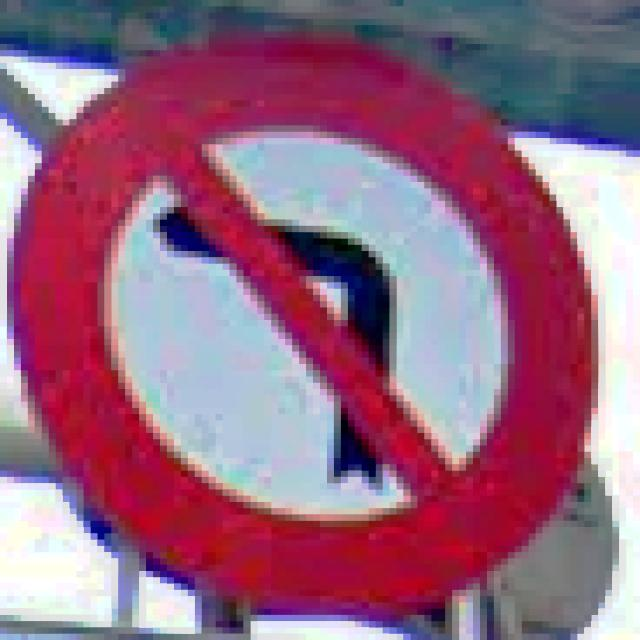noturnleft: (0, 25, 598, 608)
